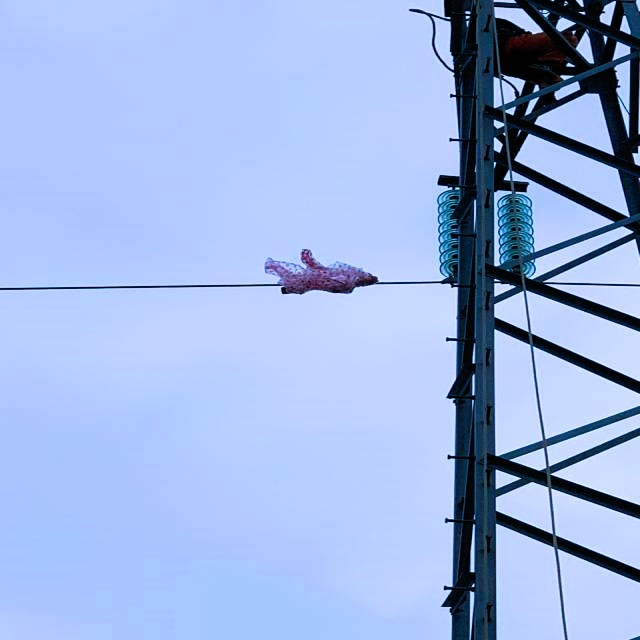wire foreign body: (266, 239, 385, 310)
